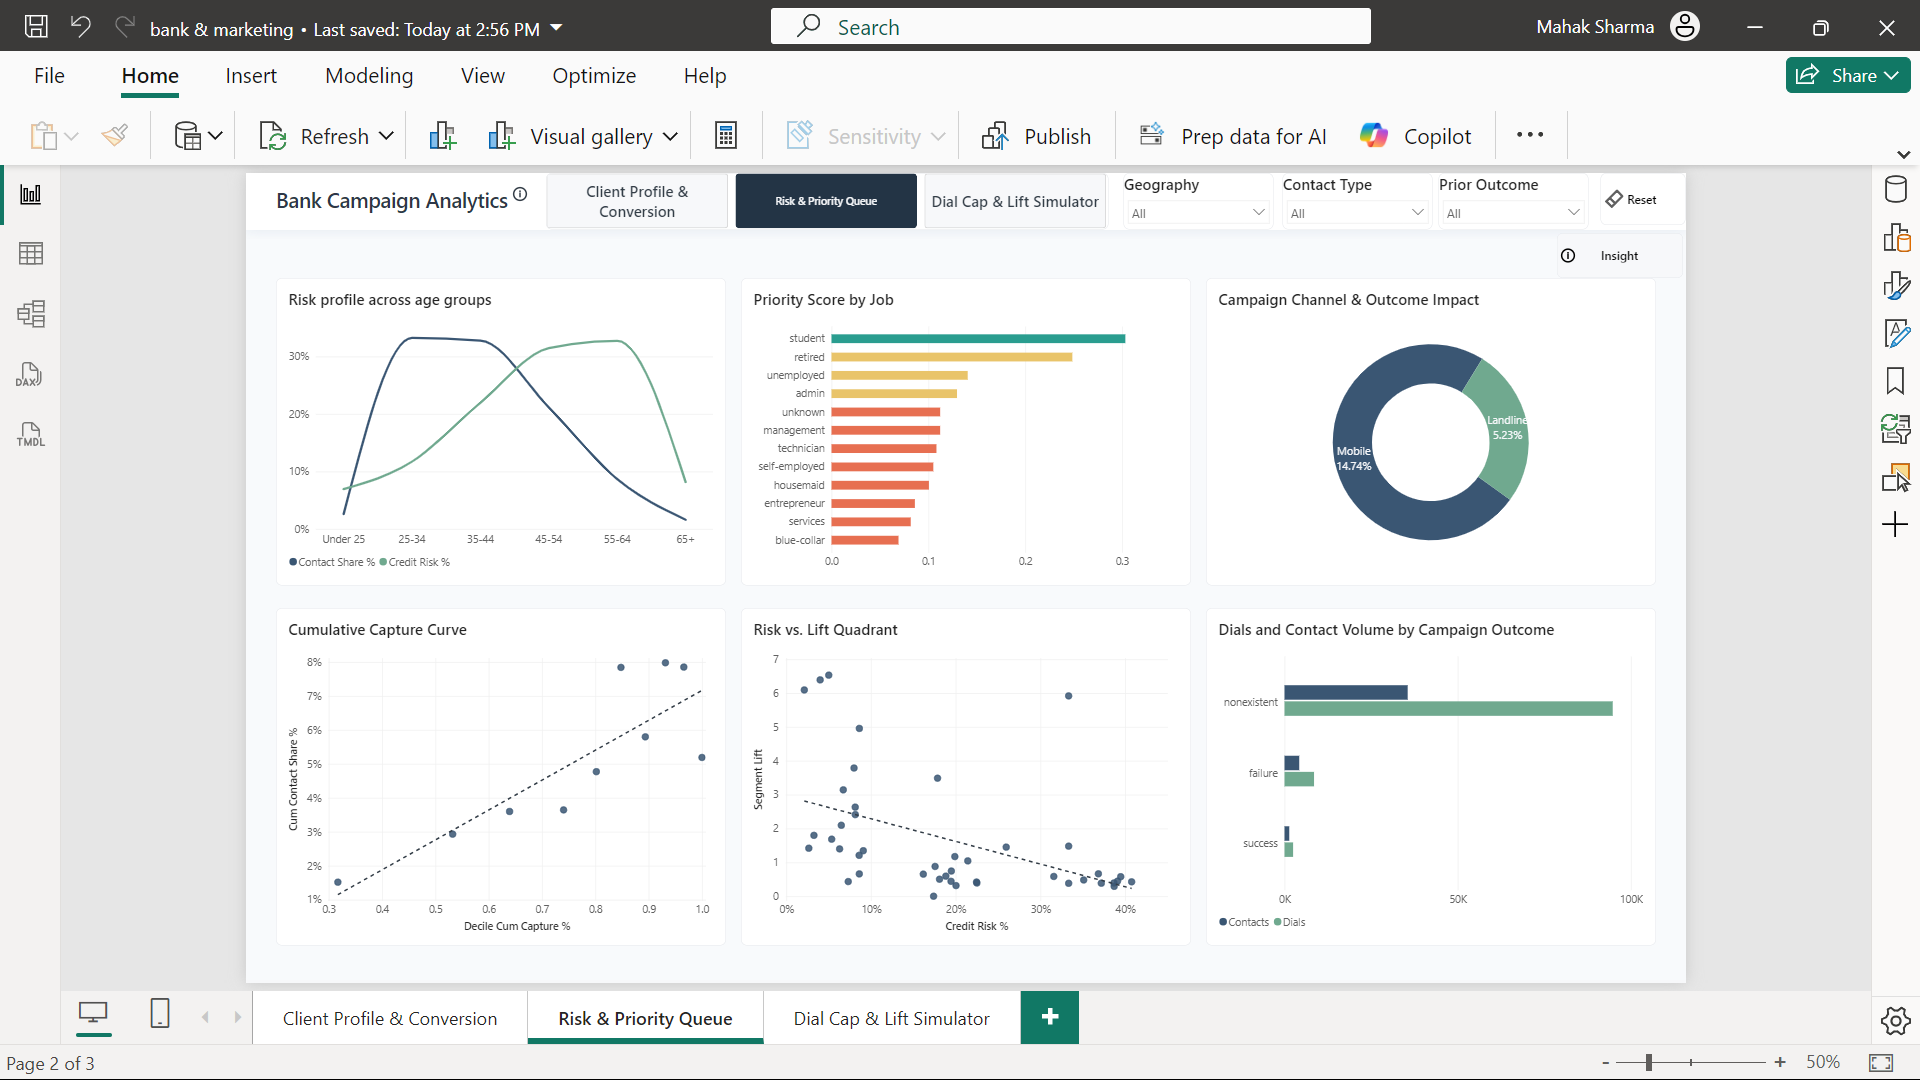

The page's visual inventory and layout, read from the dashboard file:
{"tool":"powerbi","page":{"name":"Risk & Priority Queue","canvas":[1920,1080],"ordinal":1},"visuals":[{"type":"lineChart","title":"Risk profile across age groups","fields":{"Category":["dim_client.age_band"],"Y":["_Measures.Contact Share %","_Measures.Credit Risk %"]},"box":[40,140,600,410],"z":0},{"type":"barChart","title":"Priority Score by Job","fields":{"Category":["dim_client.job"],"Y":["_Measures.Priority Score"]},"box":[660,140,600,410],"z":1000},{"type":"donutChart","title":"Campaign Channel & Outcome Impact","fields":{"Category":["dim_campaign.contact_direction"],"Y":["_Measures.Conversion Rate"]},"box":[1280,140,600,410],"z":2000},{"type":"scatterChart","title":"Cumulative Capture Curve","fields":{"Category":["fact_calls.pre_call_decile"],"X":["_Measures.Decile Cum Capture %"],"Y":["_Measures.Cum Contact Share %"]},"box":[40,580,600,450],"z":3000},{"type":"scatterChart","title":"Risk vs. Lift Quadrant","fields":{"Category":["fact_calls.pre_call_score"],"X":["_Measures.Credit Risk %"],"Y":["_Measures.Segment Lift"]},"box":[660,580,600,450],"z":4000},{"type":"clusteredBarChart","title":"Dials and Contact Volume by Campaign Outcome","fields":{"Category":["dim_campaign.previous_outcome"],"Y":["_Measures.Contacts","_Measures.Dials"]},"box":[1280,580,600,450],"z":5000},{"type":"actionButton","box":[1748,80,168,60],"z":6000},{"type":"actionButton","box":[1805.7,0,113.6,69.5],"z":9000},{"type":"actionButton","box":[340,0,50,56.2],"z":10000},{"type":"pageNavigator","box":[400,0,750,75],"z":11000},{"type":"slicer","title":"Geography","fields":{"Values":["dim_client.assigned_region"]},"box":[1170,0,200,75],"z":12000},{"type":"slicer","title":"Contact Type","fields":{"Values":["dim_campaign.contact_direction"]},"box":[1381.2,0,200,75],"z":13000},{"type":"slicer","title":"Prior Outcome","fields":{"Values":["dim_campaign.previous_outcome"]},"box":[1590,0,200,75],"z":14000}]}

Visuals, with their boxes on the page's 1920x1080 design canvas (x1, y1, x2, y2). These are canvas units, not pixel positions in the 1920x1080 screenshot, which may show the page scaled, cropped or inside an application window:
"Risk profile across age groups" lineChart: [left=40, top=140, right=640, bottom=550]
"Priority Score by Job" barChart: [left=660, top=140, right=1260, bottom=550]
"Campaign Channel & Outcome Impact" donutChart: [left=1280, top=140, right=1880, bottom=550]
"Cumulative Capture Curve" scatterChart: [left=40, top=580, right=640, bottom=1030]
"Risk vs. Lift Quadrant" scatterChart: [left=660, top=580, right=1260, bottom=1030]
"Dials and Contact Volume by Campaign Outcome" clusteredBarChart: [left=1280, top=580, right=1880, bottom=1030]
actionButton: [left=1748, top=80, right=1916, bottom=140]
actionButton: [left=1806, top=0, right=1919, bottom=70]
actionButton: [left=340, top=0, right=390, bottom=56]
pageNavigator: [left=400, top=0, right=1150, bottom=75]
"Geography" slicer: [left=1170, top=0, right=1370, bottom=75]
"Contact Type" slicer: [left=1381, top=0, right=1581, bottom=75]
"Prior Outcome" slicer: [left=1590, top=0, right=1790, bottom=75]
